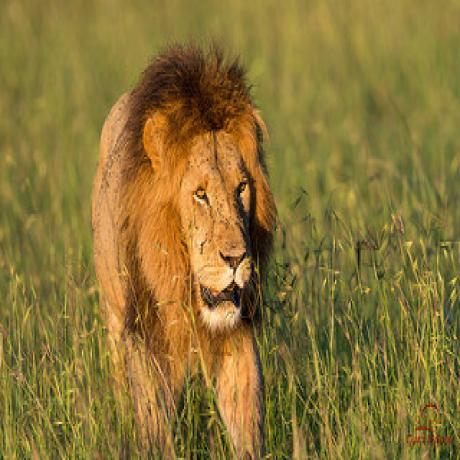Lion: (89, 32, 268, 460)
